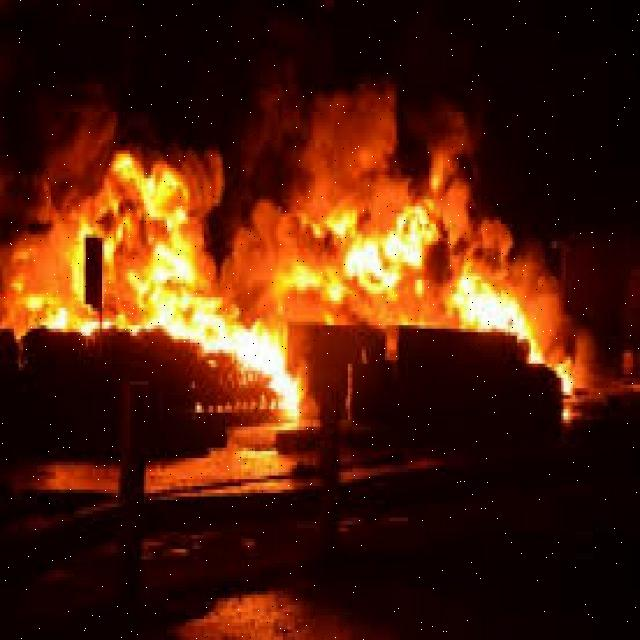fire: (62, 168, 292, 414), (357, 197, 582, 382)
